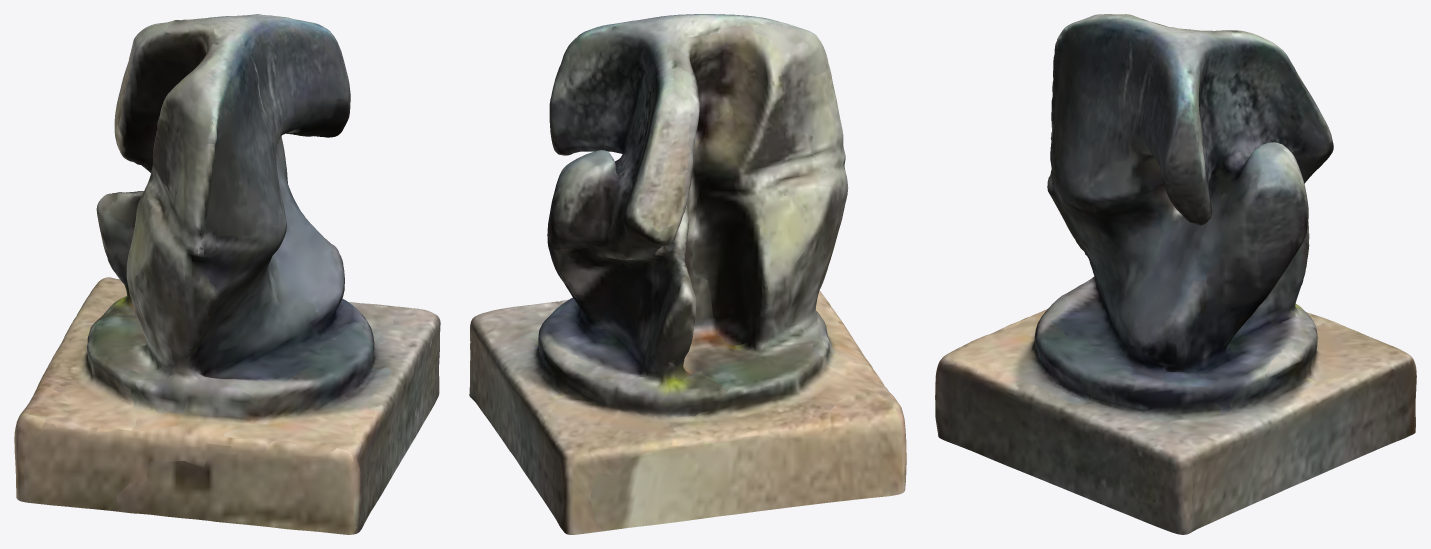
Rendered from preview.glb.
3 views of the same model, side by side, from view 1: azimuth 30°, elevation 25°; view 2: azimuth 150°, elevation 25°; view 3: azimuth 270°, elevation 25° (orthographic). The views are drawn at different scales.
Parts seen in each view (by area): view 1: mesh; view 2: mesh; view 3: mesh.
Part boxes in pixels (x1,y1,x2,y2): mesh: (14, 14, 440, 534); mesh: (469, 14, 906, 534); mesh: (935, 14, 1416, 534).
Bounding box in the file's own units: 1.42 × 1.33 × 1.42.
1 material, 1 textured.
